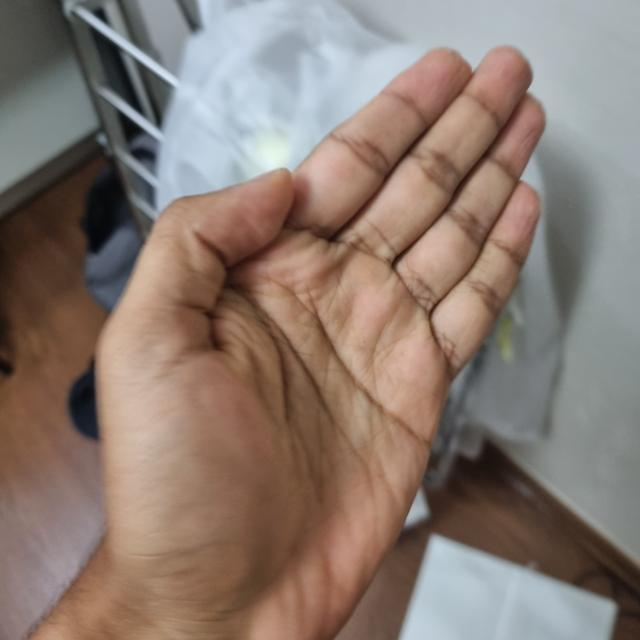Paper: (77, 63, 545, 638)
